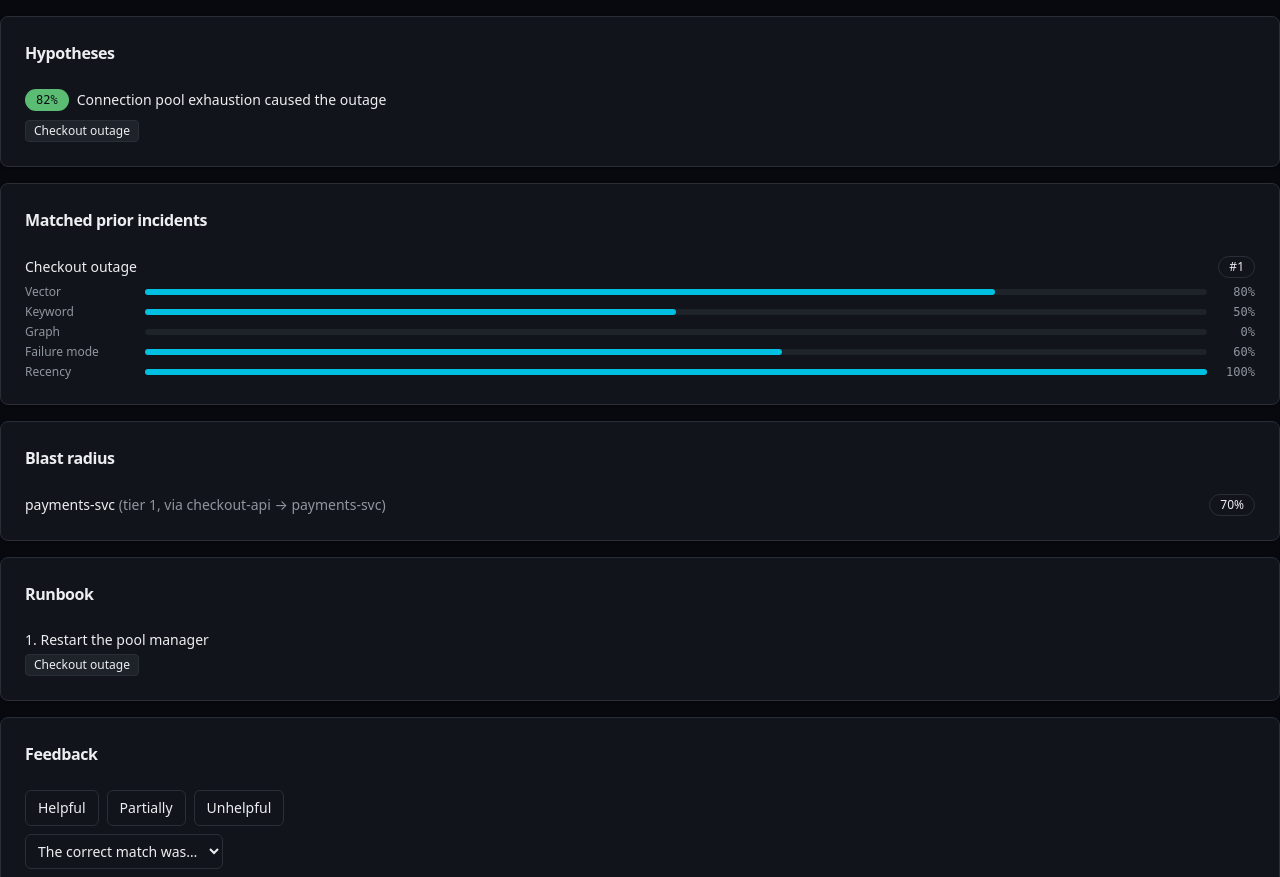
Test: BriefView › shows a citation's grounding excerpt only after clicking the chip
Expected: the text "The connection pool was exhausted during peak traffic." is not shown
What coordinates should you click on to do the following:
click the button "Checkout outage" below "82"
I would click on:
 (82, 131)
Its box is [25,120,139,142].
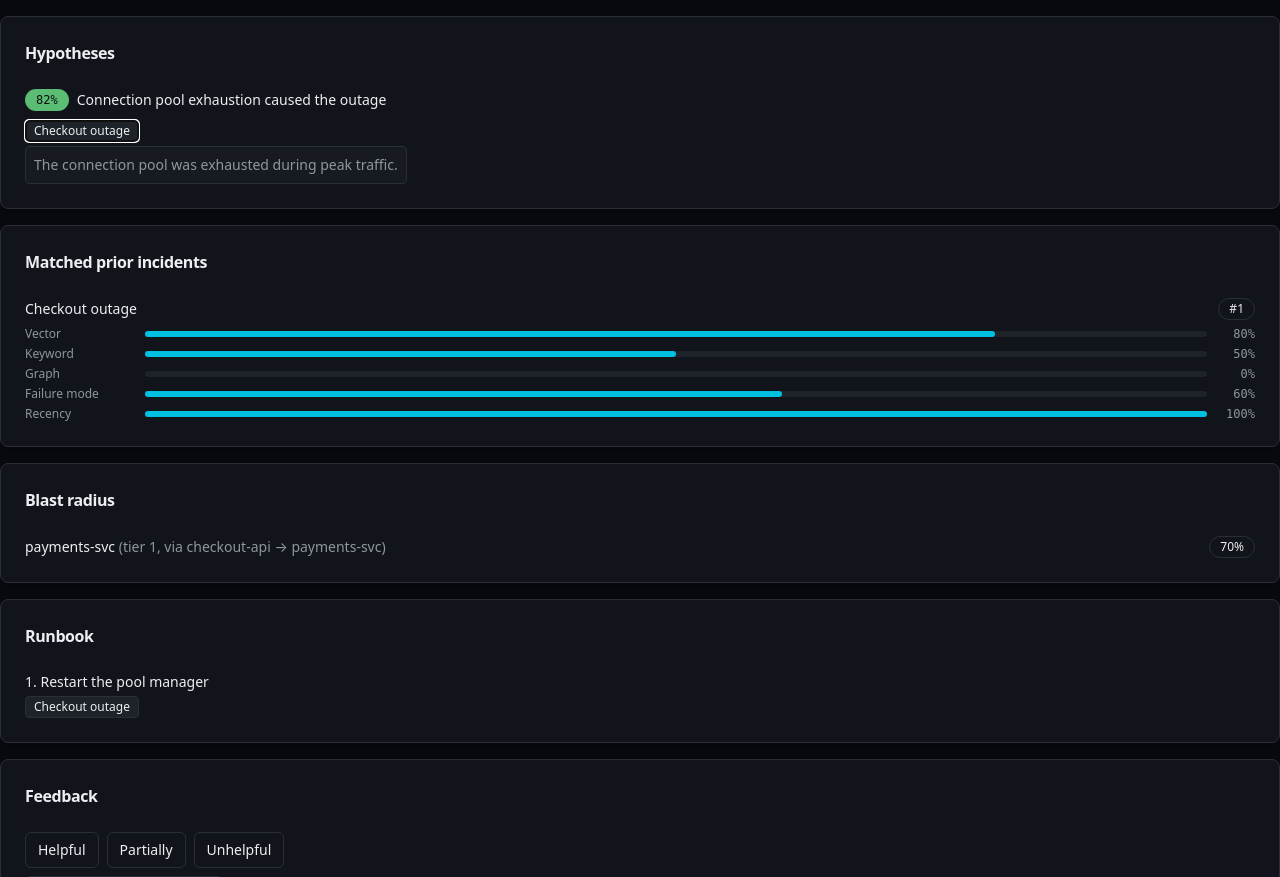
Expected: the text "The connection pool was exhausted during peak traffic." is shown, [25,146,407,184]
